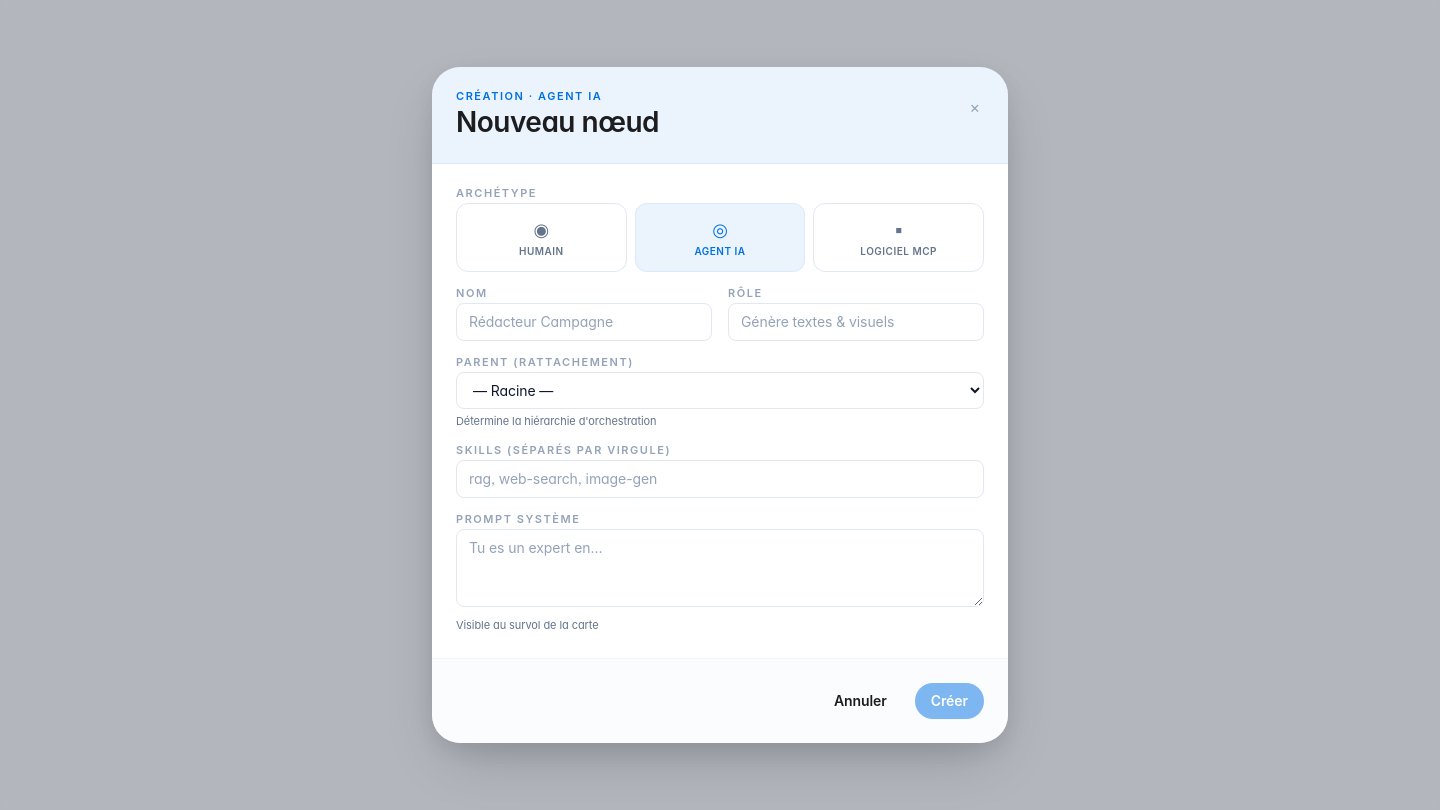
Test: NodeEditor › désactive le bouton pendant l'enregistrement (anti double-clic)
The width and height of the screenshot is (1440, 810).
Type "Rédacteur Test" into the field with placeholder "Rédacteur Campagne" at (584, 322), box [456,303,712,341]
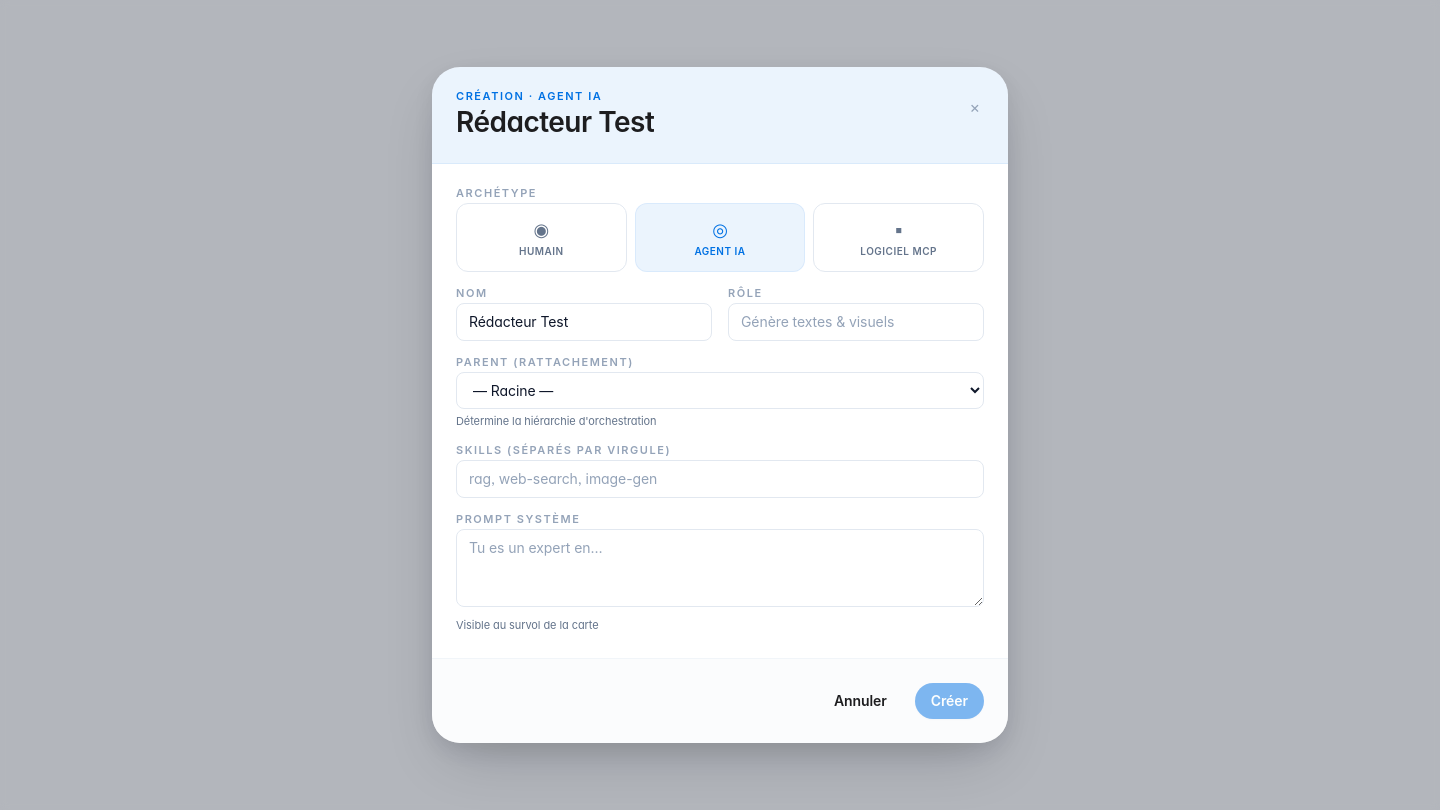
Type "Génère du contenu" into the field with placeholder "Génère textes & visuels" at (856, 322), box [728,303,984,341]
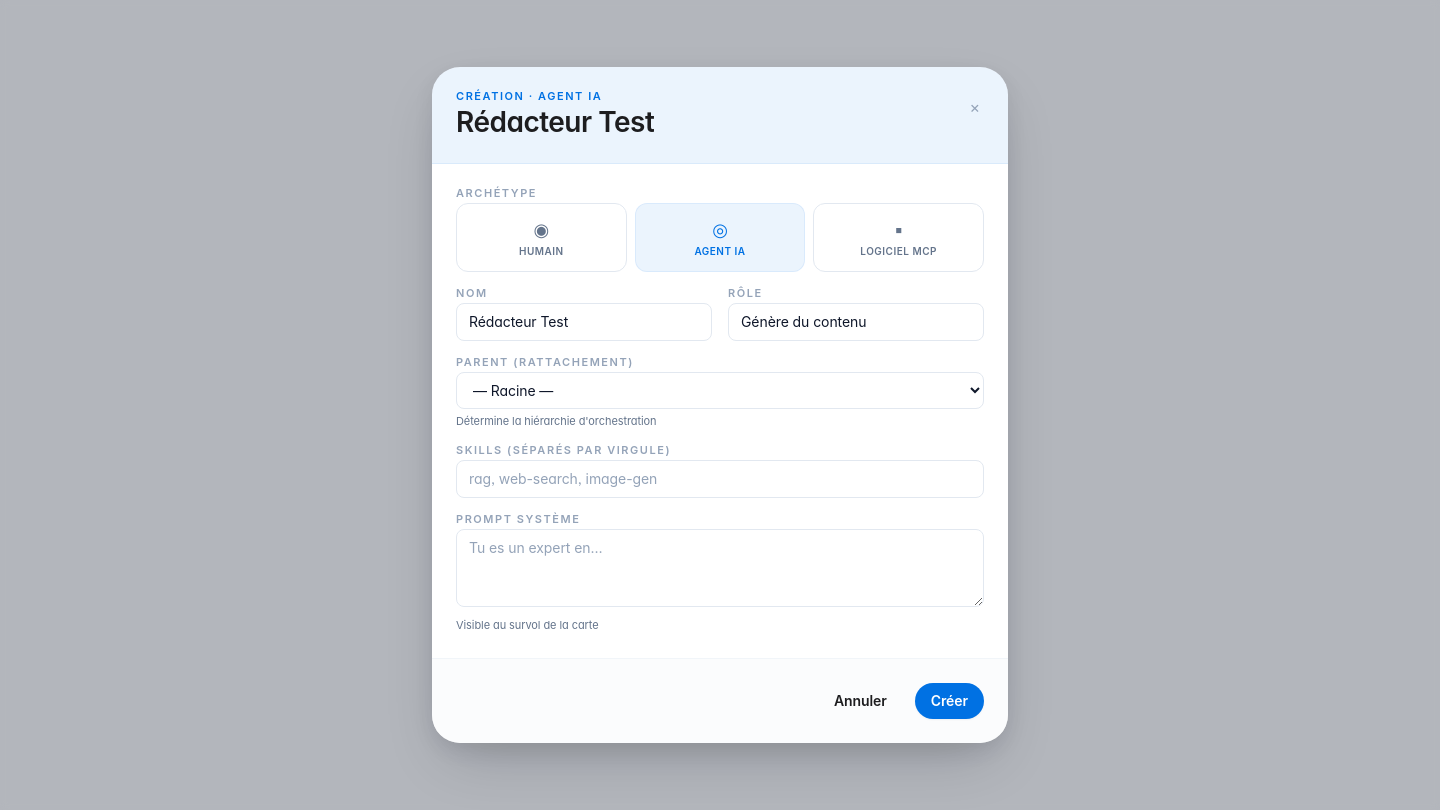
Click the button "Créer" at (949, 701), box [915,683,984,719]
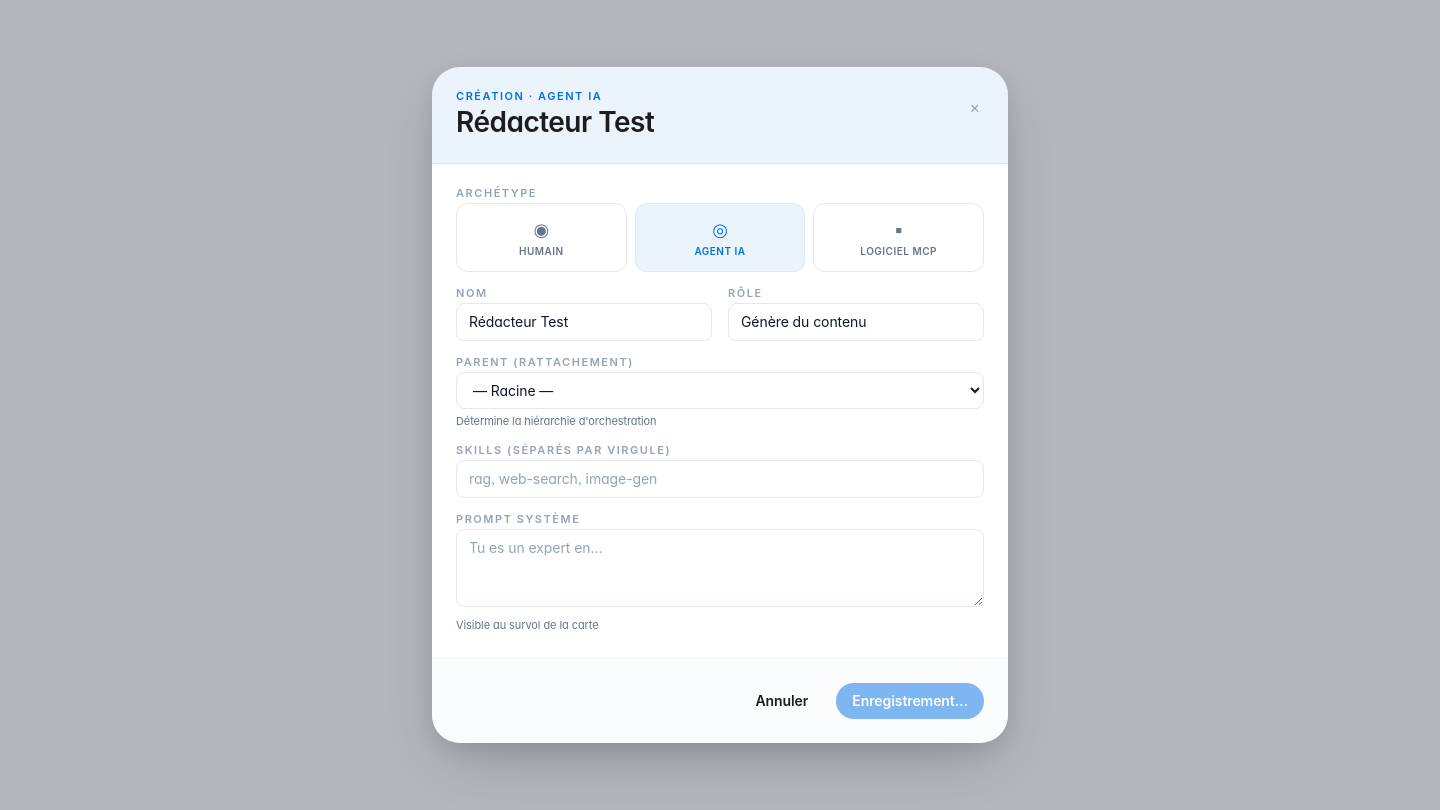
Expected: the button "Enregistrement…" is disabled
// Un second clic pendant l'enregistrement ne déclenche pas un second appel.
Click the button "Enregistrement…" at (910, 701), box [836,683,984,719]
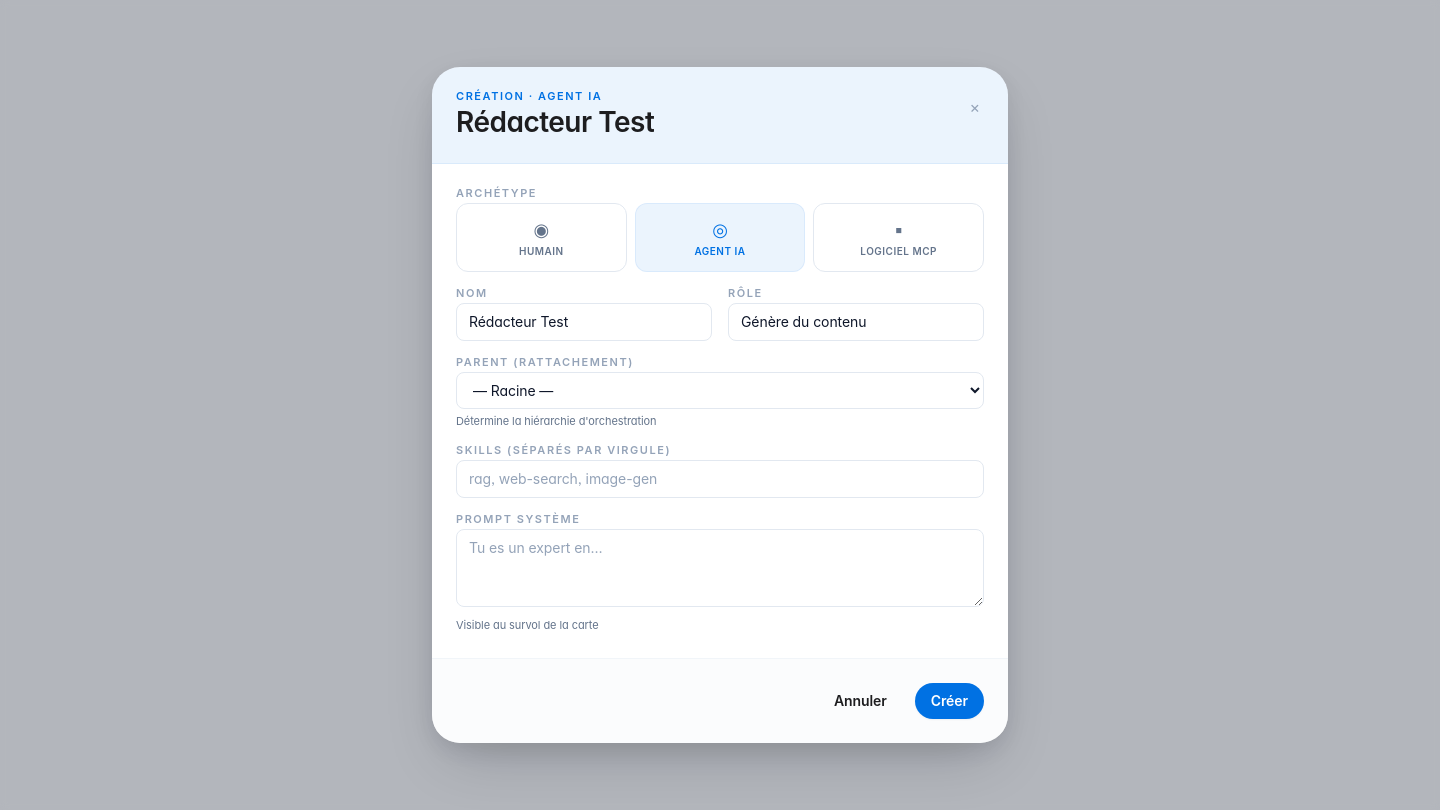
Expected: the button "Créer" is enabled, [915,683,984,719]
